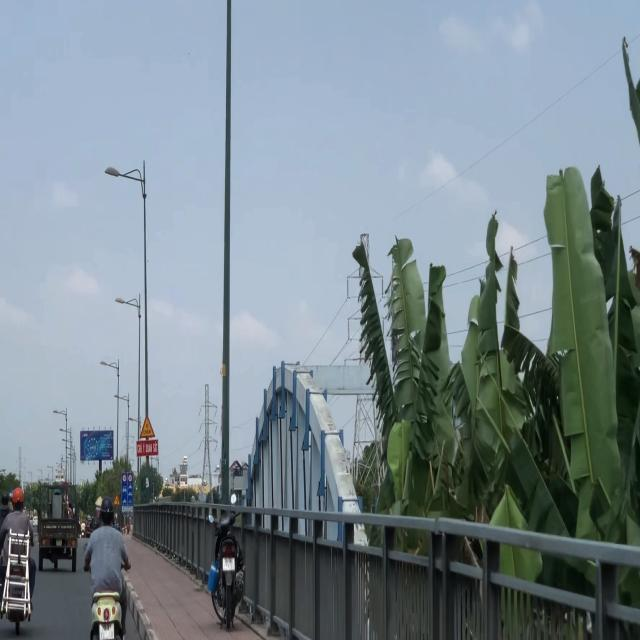Nguy hiem: (140, 415, 156, 439)
